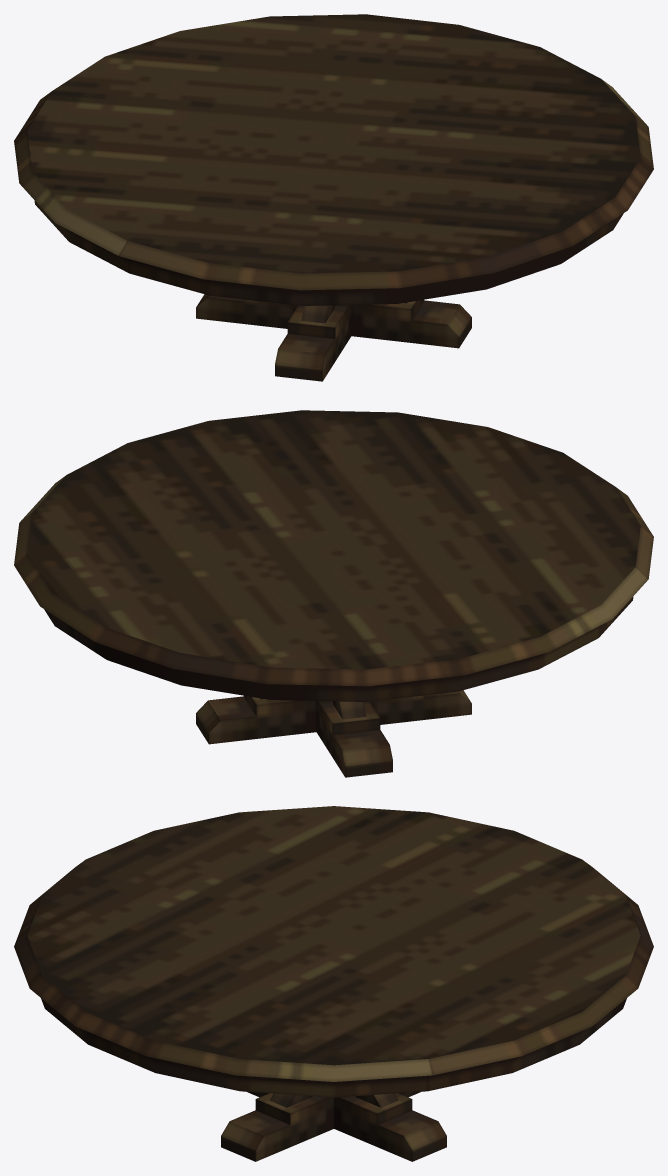
The model's file is EnvObjMD_Table_B.FBX.
3 views of the same model, one above another, from view 1: azimuth 30°, elevation 25°; view 2: azimuth 150°, elevation 25°; view 3: azimuth 270°, elevation 25° (orthographic).
Visible parts, largest first — view 1: EnvObjMD_Table_B; view 2: EnvObjMD_Table_B; view 3: EnvObjMD_Table_B.
Boxes of the visible parts, bbox=[...] form: EnvObjMD_Table_B: bbox=[14, 14, 653, 381]; EnvObjMD_Table_B: bbox=[14, 410, 653, 777]; EnvObjMD_Table_B: bbox=[14, 806, 653, 1161].
Size of the model in its own units: 260 by 80 by 260.
